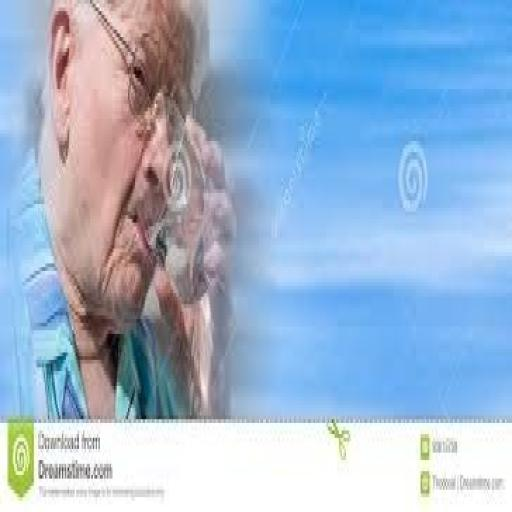drinking: (0, 0, 235, 419)
